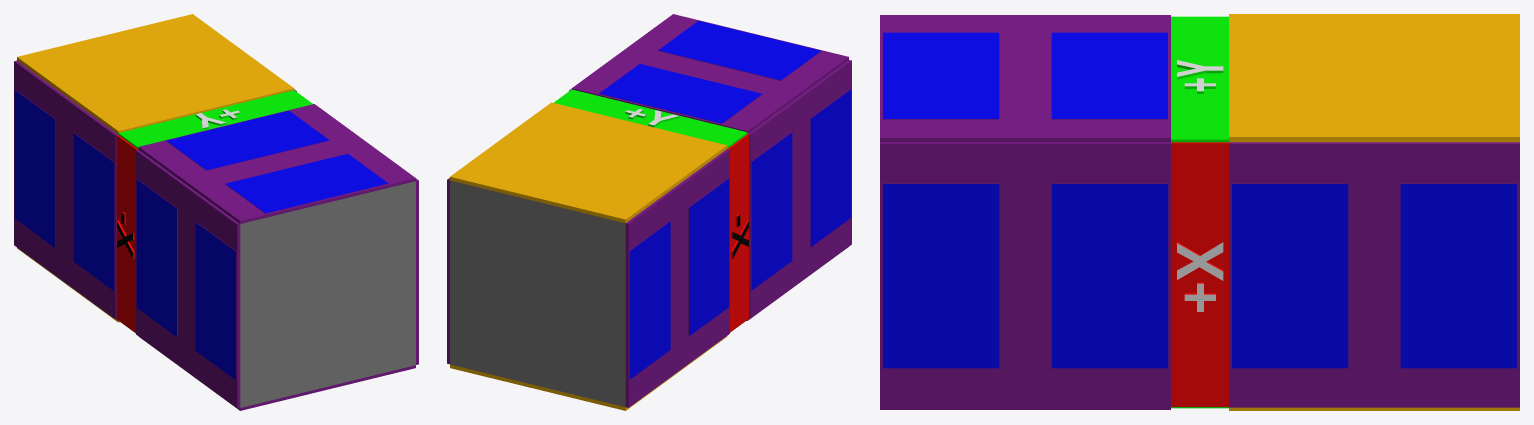
The model's file is OreSat_Simplified_Model.obj.
The picture shows the model from 3 angles, left to right: view 1: azimuth 30°, elevation 25°; view 2: azimuth 150°, elevation 25°; view 3: azimuth 270°, elevation 25°; orthographic projection. The views are drawn at different scales.
Visible parts, largest first — view 1: mesh100, mesh5, mesh66, mesh15, mesh4, mesh21, mesh72, mesh9, mesh6, mesh64, mesh61, mesh2 (+2 smaller); view 2: mesh101, mesh5, mesh66, mesh15, mesh4, mesh21, mesh72, mesh7, mesh62, mesh6, mesh61, mesh13 (+2 smaller); view 3: mesh5, mesh4, mesh15, mesh66, mesh107, mesh72, mesh8, mesh63, mesh6, mesh61, mesh109.
Part boxes in pixels (box(x1,y1,x2,y2)): mesh100: box(240, 181, 415, 407); mesh5: box(14, 61, 415, 408); mesh66: box(17, 14, 293, 130); mesh15: box(14, 90, 329, 336); mesh4: box(73, 133, 388, 379); mesh21: box(116, 135, 136, 332); mesh72: box(119, 90, 312, 147); mesh9: box(115, 91, 418, 410); mesh6: box(14, 60, 240, 410); mesh64: box(118, 88, 294, 322); mesh61: box(17, 57, 118, 134); mesh2: box(114, 162, 388, 379); mesh101: box(450, 180, 625, 407); mesh5: box(572, 14, 851, 407); mesh66: box(450, 102, 726, 219); mesh15: box(599, 64, 792, 379); mesh4: box(658, 20, 851, 336); mesh21: box(729, 135, 749, 332); mesh72: box(553, 89, 746, 146); mesh7: box(447, 88, 750, 407); mesh62: box(450, 177, 625, 410); mesh6: box(626, 60, 851, 320); mesh61: box(625, 145, 727, 222); mesh13: box(599, 93, 751, 379); mesh5: box(880, 15, 1519, 407); mesh4: box(883, 32, 1348, 368); mesh15: box(1051, 32, 1516, 368); mesh66: box(1229, 14, 1519, 136); mesh107: box(1171, 143, 1228, 406); mesh72: box(1171, 16, 1228, 139); mesh8: box(880, 142, 1519, 409); mesh63: box(1229, 137, 1519, 142); mesh6: box(880, 138, 1170, 142); mesh61: box(1229, 407, 1519, 410); mesh109: box(1177, 242, 1223, 280).
Size of the model in its own units: 0.104 by 0.104 by 0.22.
